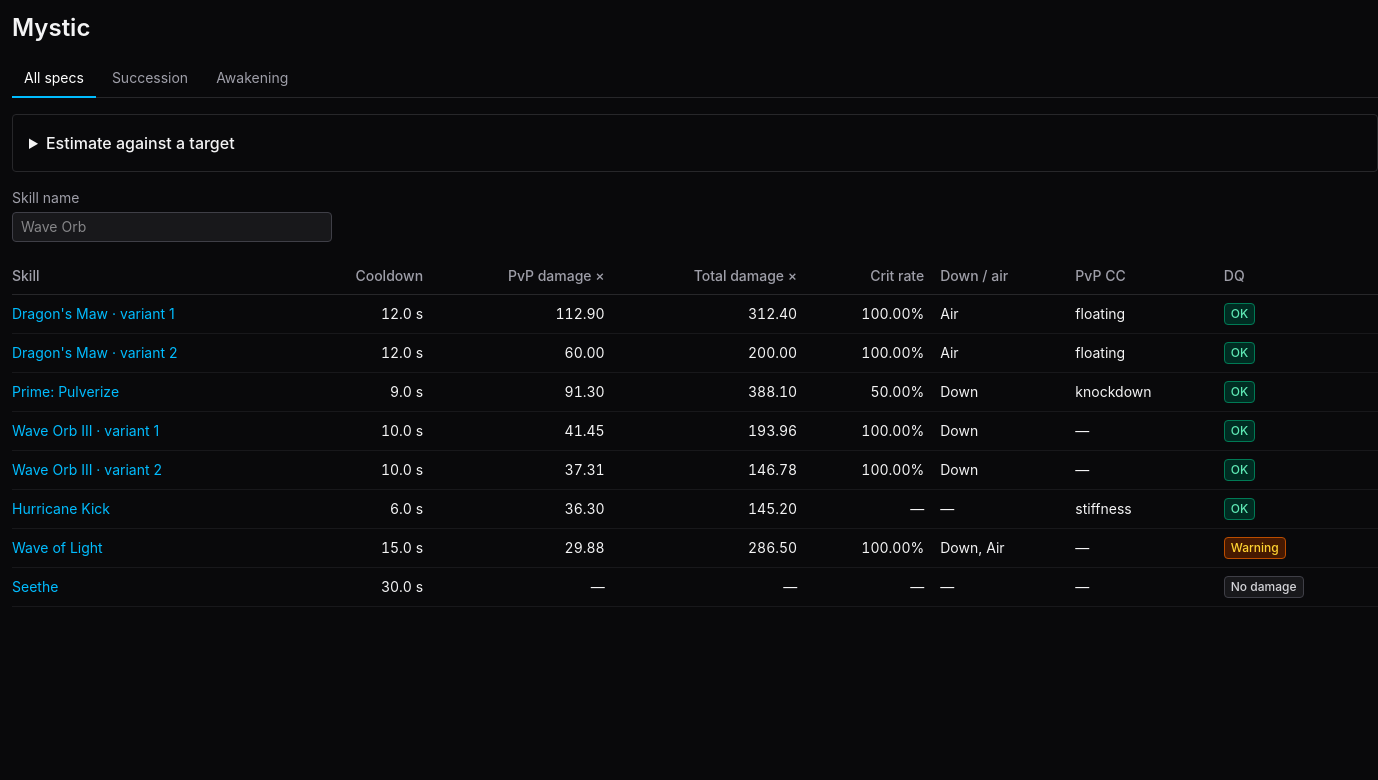
ClassSkillsPage › says so when no skill matches the name filter
Check: the table is shown, box [12,258,1377,607]
Type "unknown" into the search field labelled "Skill name" at coordinates (172, 227), box [12,212,332,242]
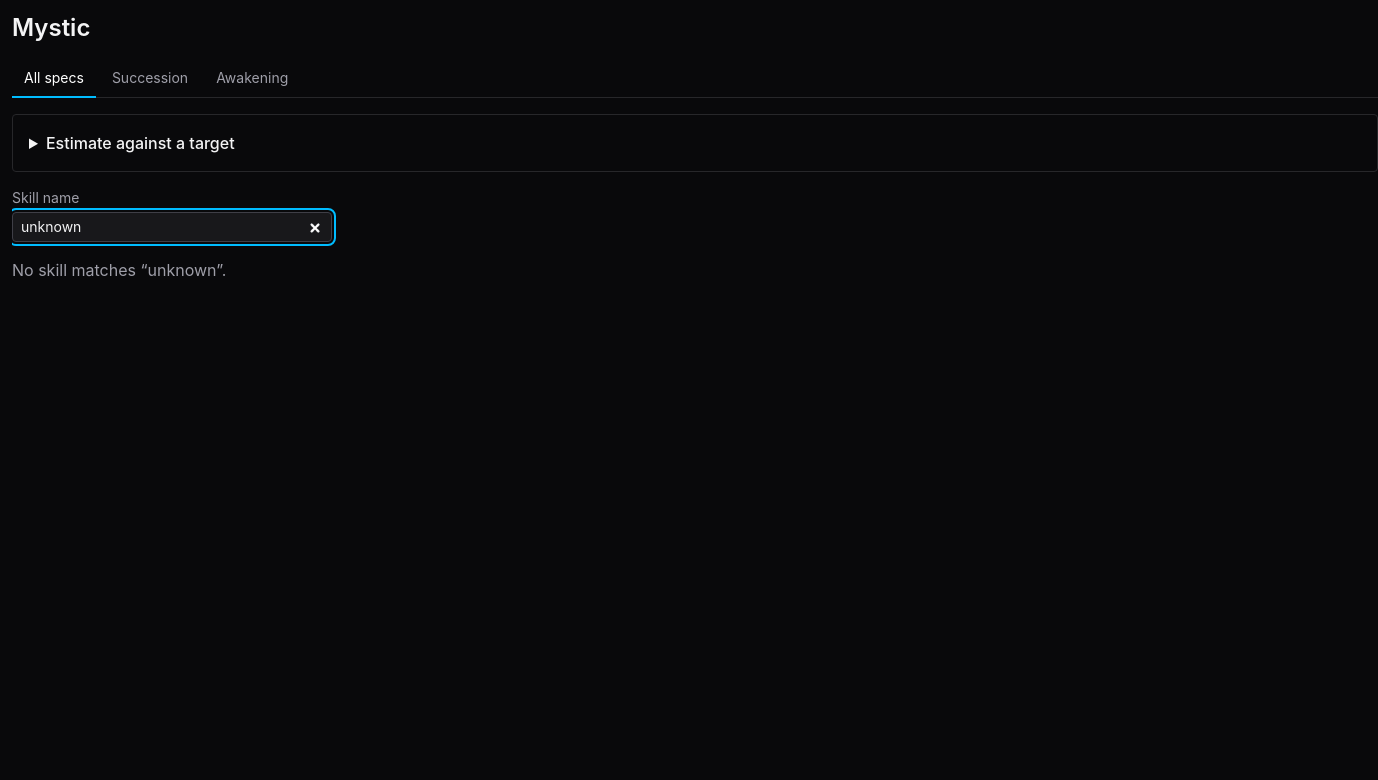
Check: the text "No skill matches “unknown”." is shown, box [12,260,226,280]
Check: the table is gone
